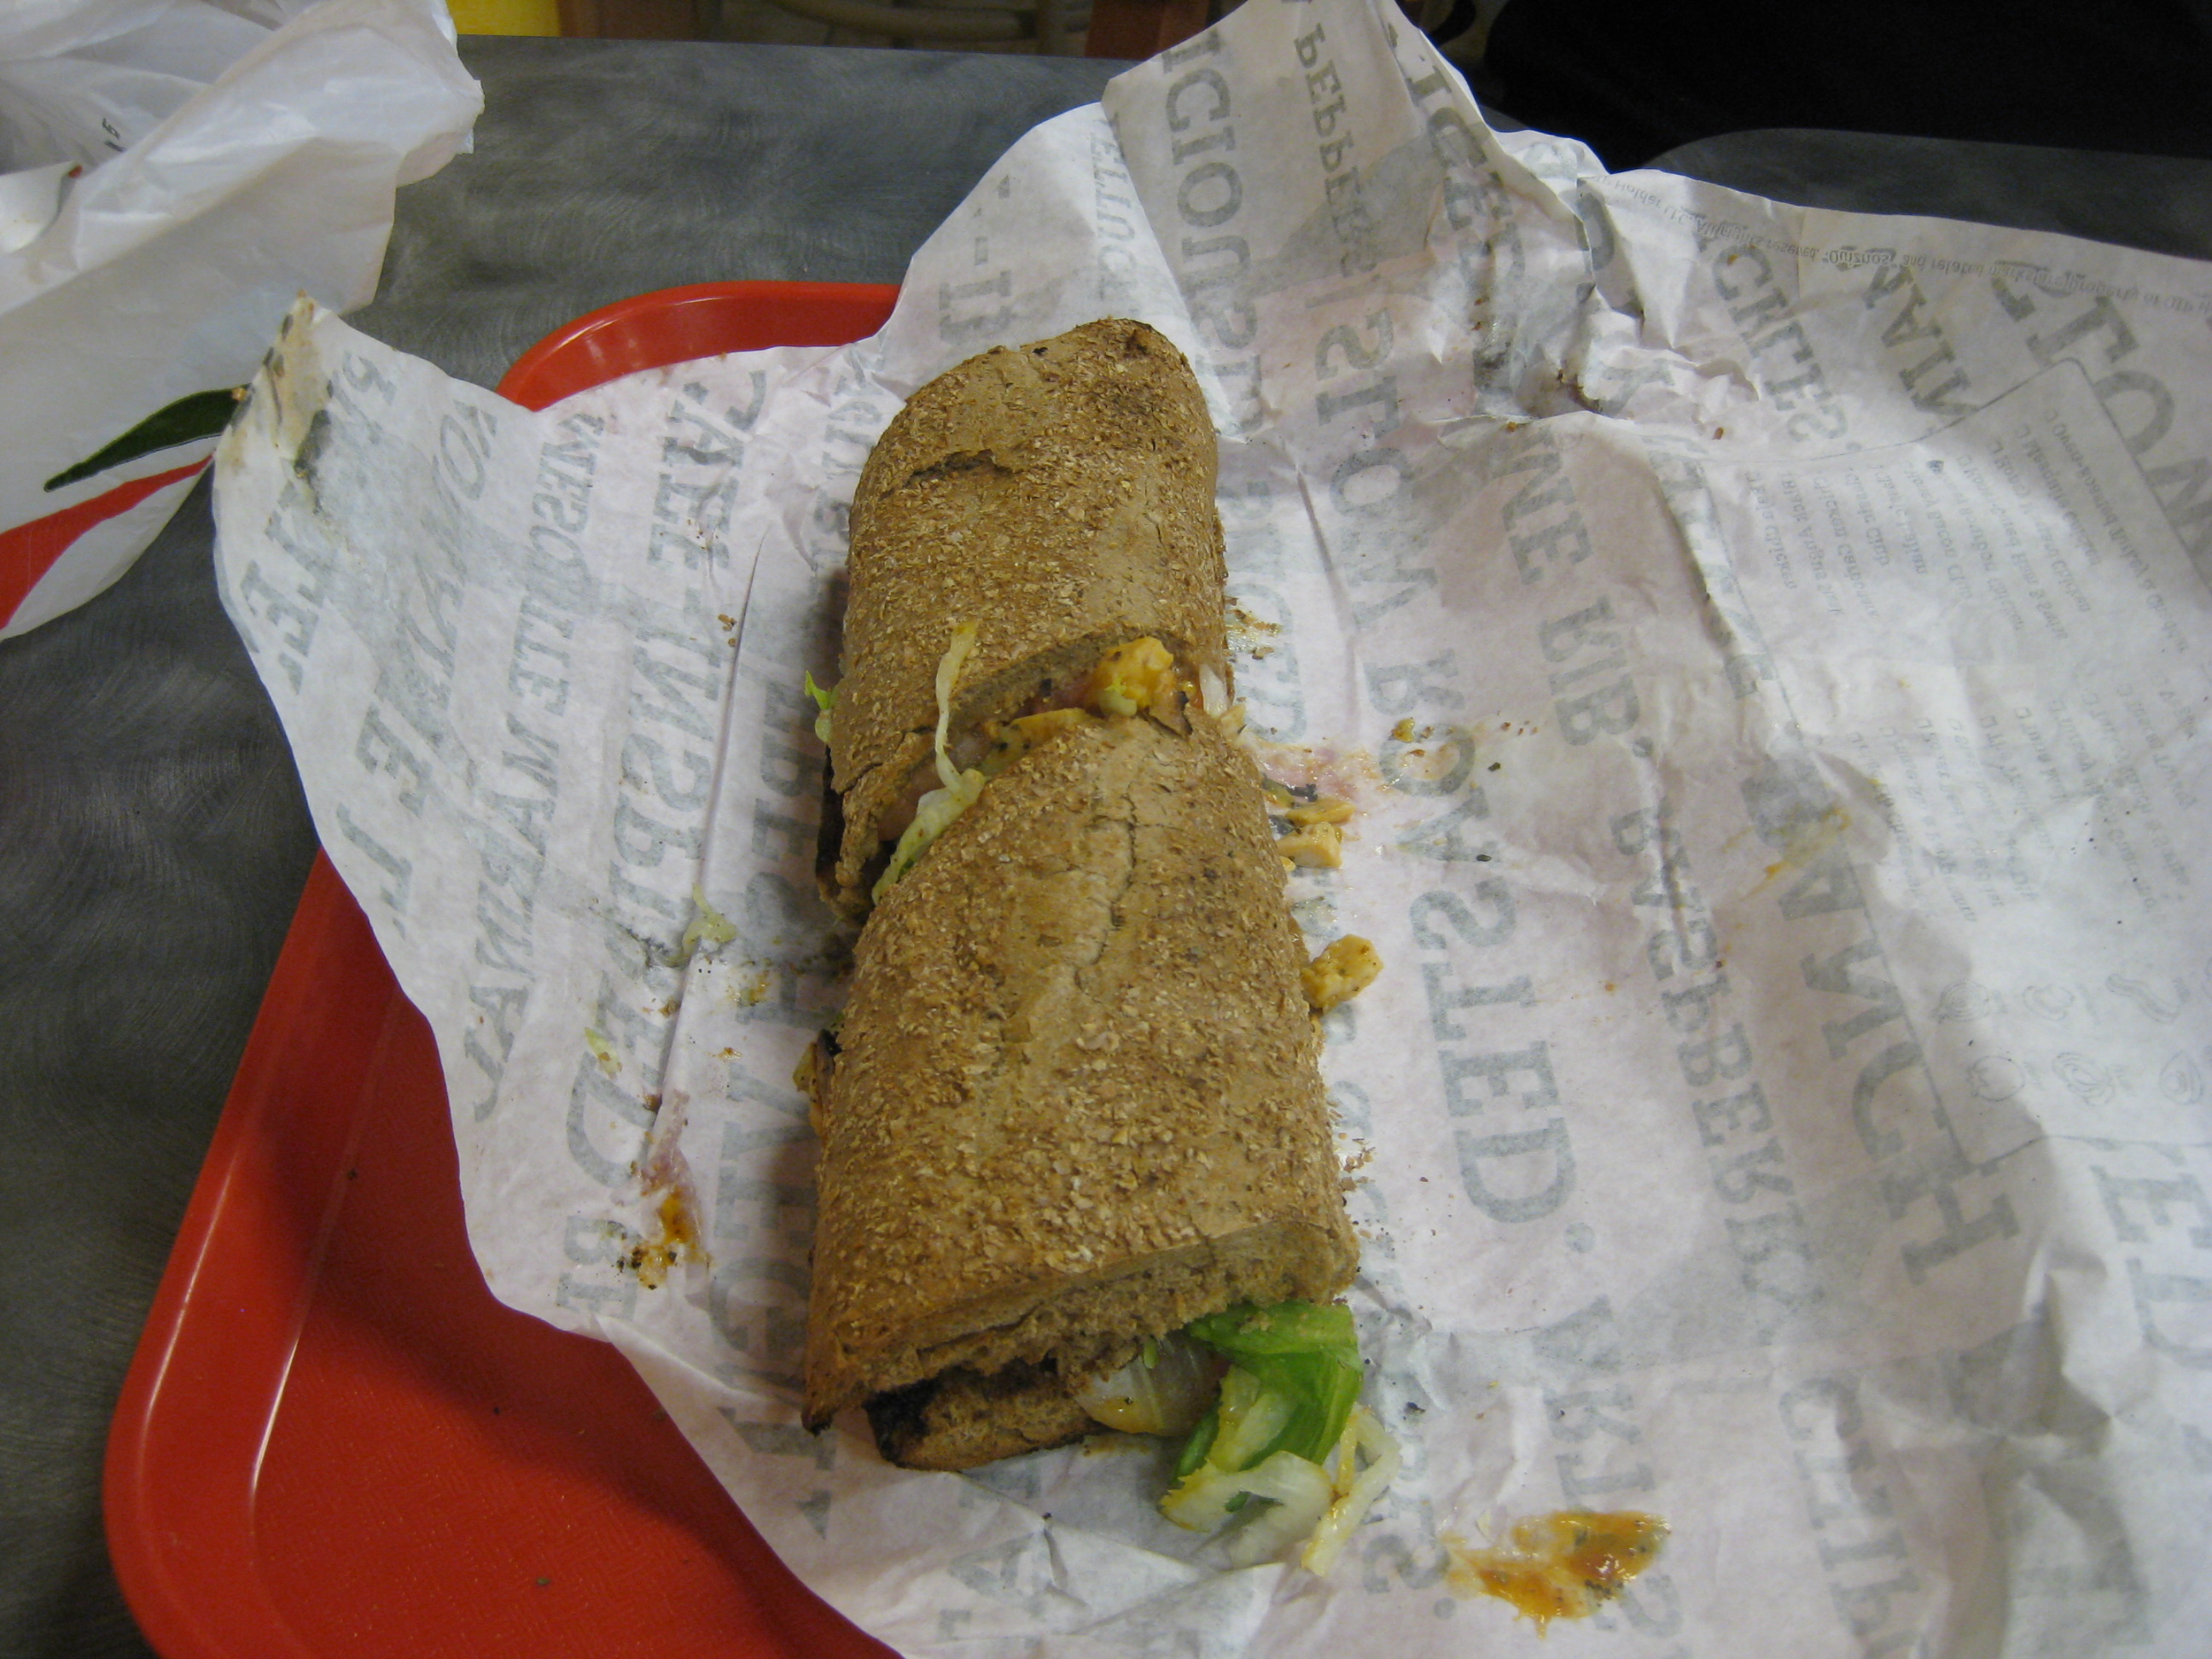sub: (808, 298, 1440, 1458)
